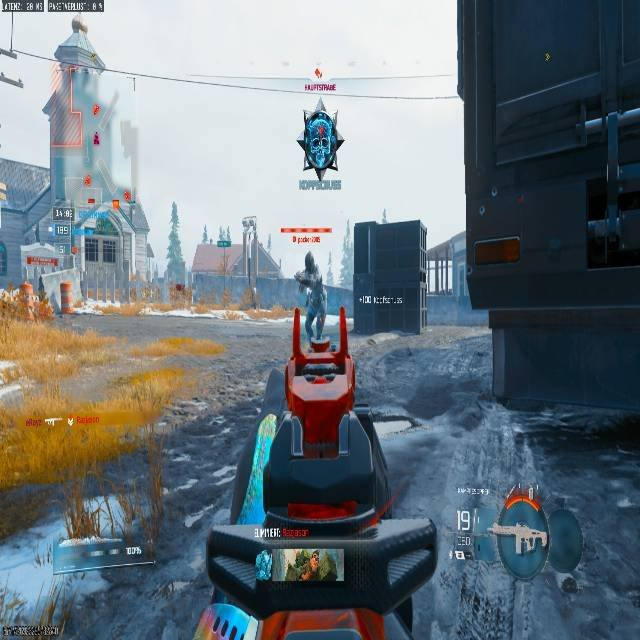head: (301, 249, 318, 271), (303, 247, 315, 264), (303, 253, 314, 269)
player: (296, 109, 344, 179), (293, 253, 326, 337)
